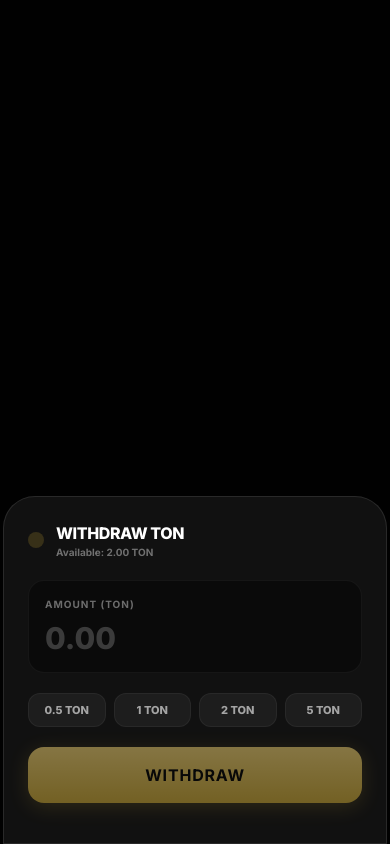
it: TxModal Component › validates insufficient balance
# Set amount greater than balance
Type "5" into the number field with placeholder "0.00" at (218, 638), box top-left (45, 620), bottom-right (389, 656)
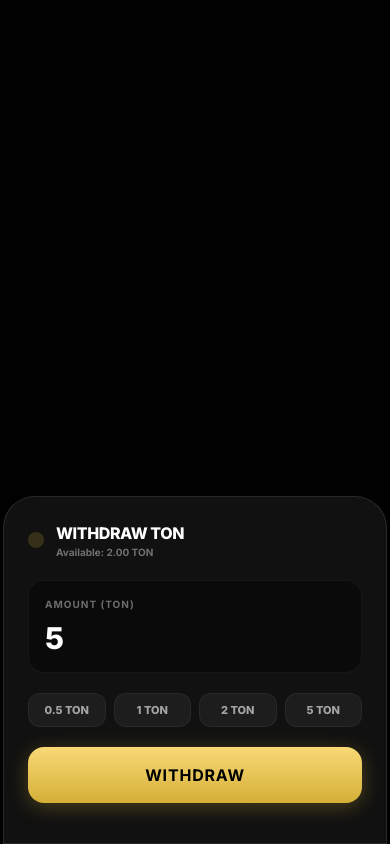
Click the button "Withdraw" at (195, 775), box top-left (28, 747), bottom-right (362, 803)
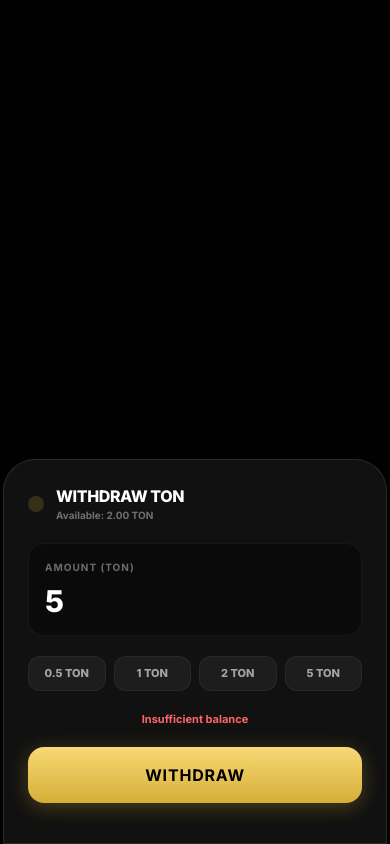
Expected: the text "Insufficient balance" is shown, top-left (142, 712), bottom-right (248, 726)
